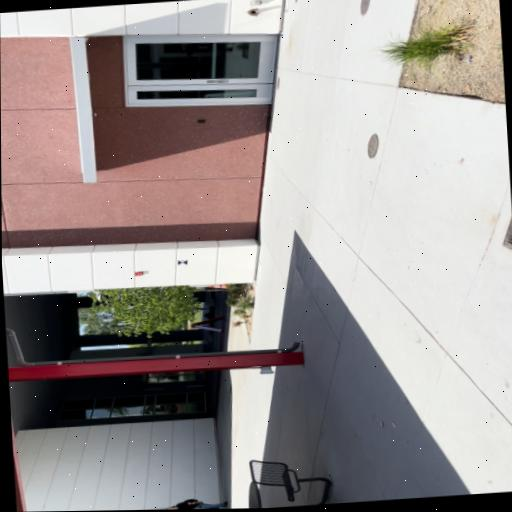target2: (177, 260, 188, 266)
